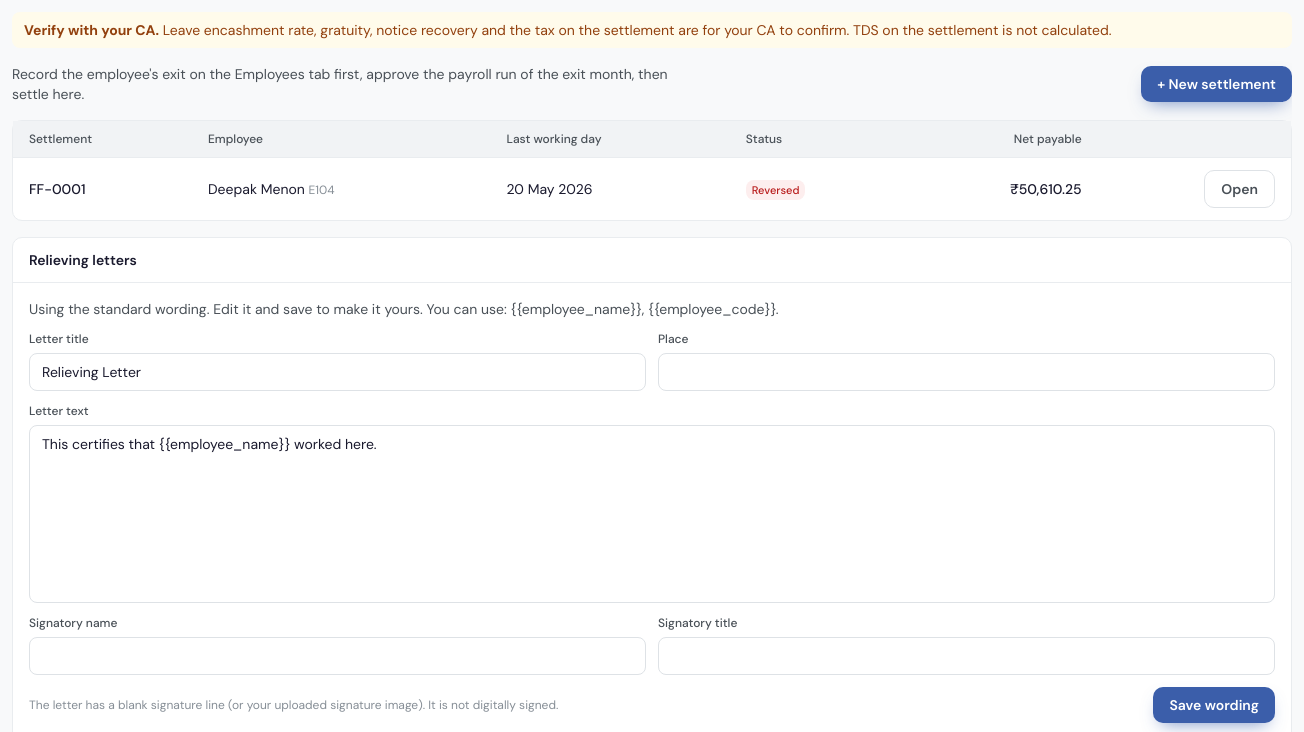
FnfTab › a reversed settlement shows the reason and no action but the statement
The width and height of the screenshot is (1304, 732).
Click the button "Open" at coordinates (1240, 189), box [1204, 170, 1275, 208]
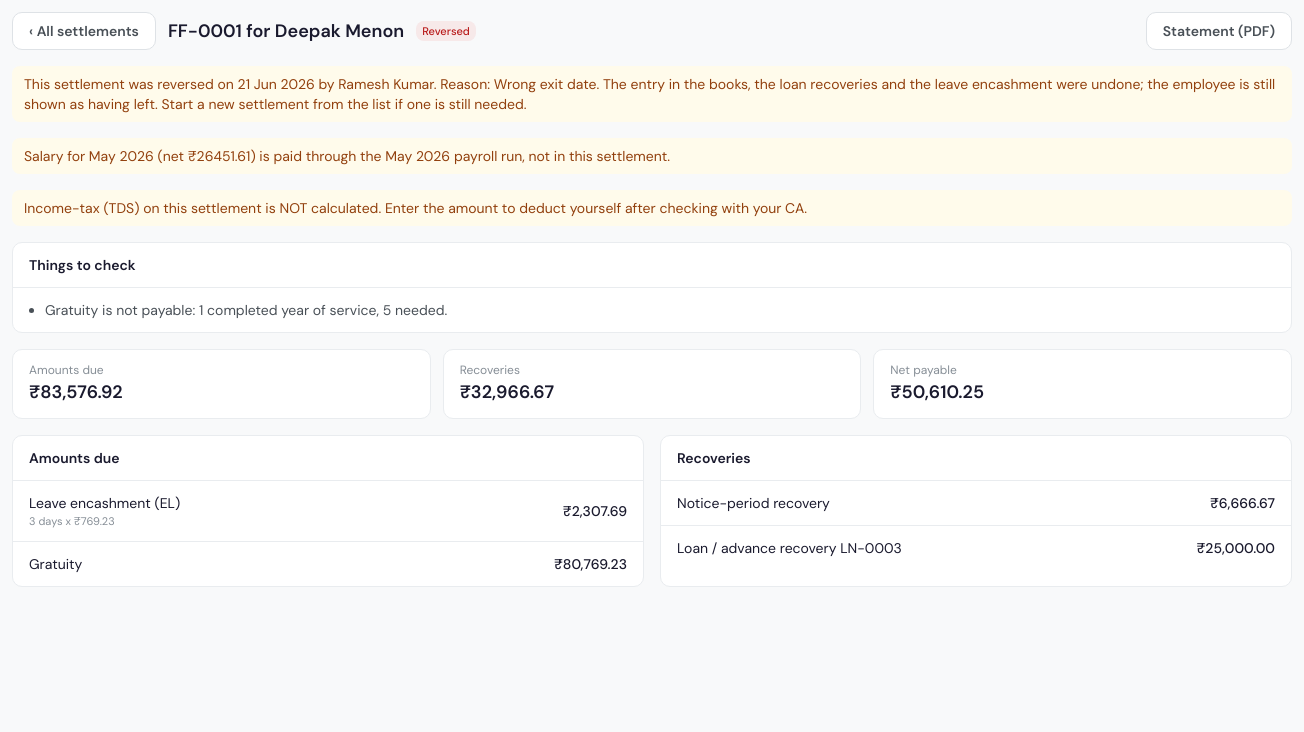
Check: the message with test id "fnf-reversed" shows "Reason: Wrong exit date", box [12, 66, 1292, 122]
Check: the button "Statement (PDF)" is shown, box [1146, 12, 1292, 50]
